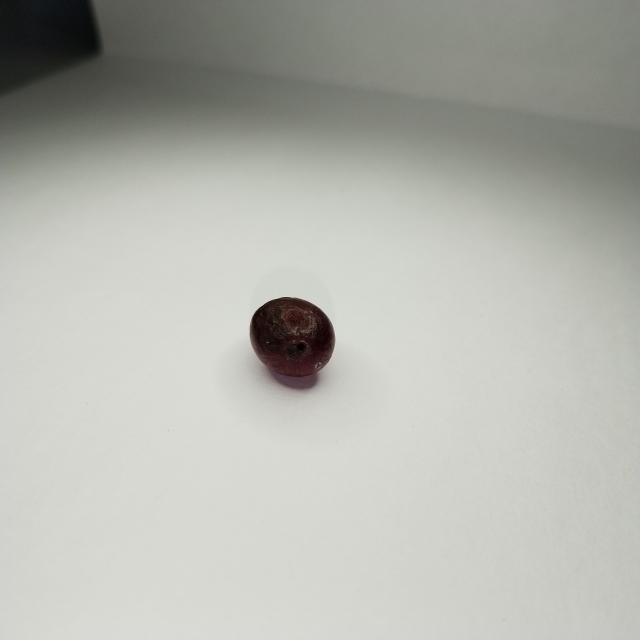Infectado: (251, 297, 336, 375)
